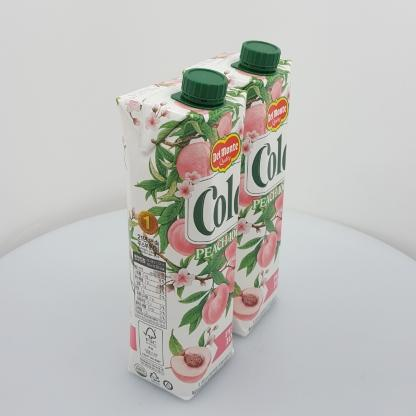-------------100_: (116, 68, 246, 401), (182, 40, 291, 338)
